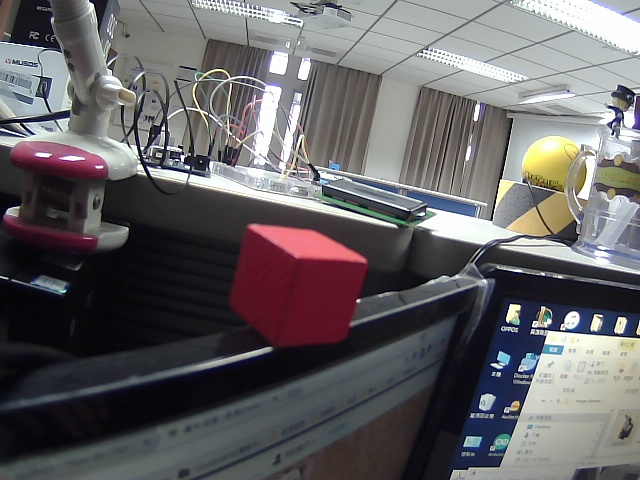redbox: (226, 217, 373, 351)
